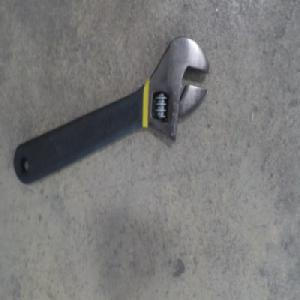AdjustableWrench: (15, 37, 211, 185)
